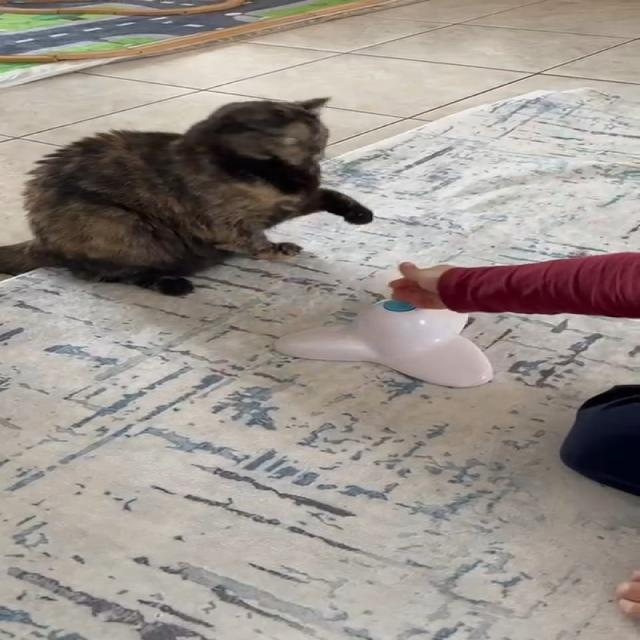authorized: (0, 95, 373, 296)
